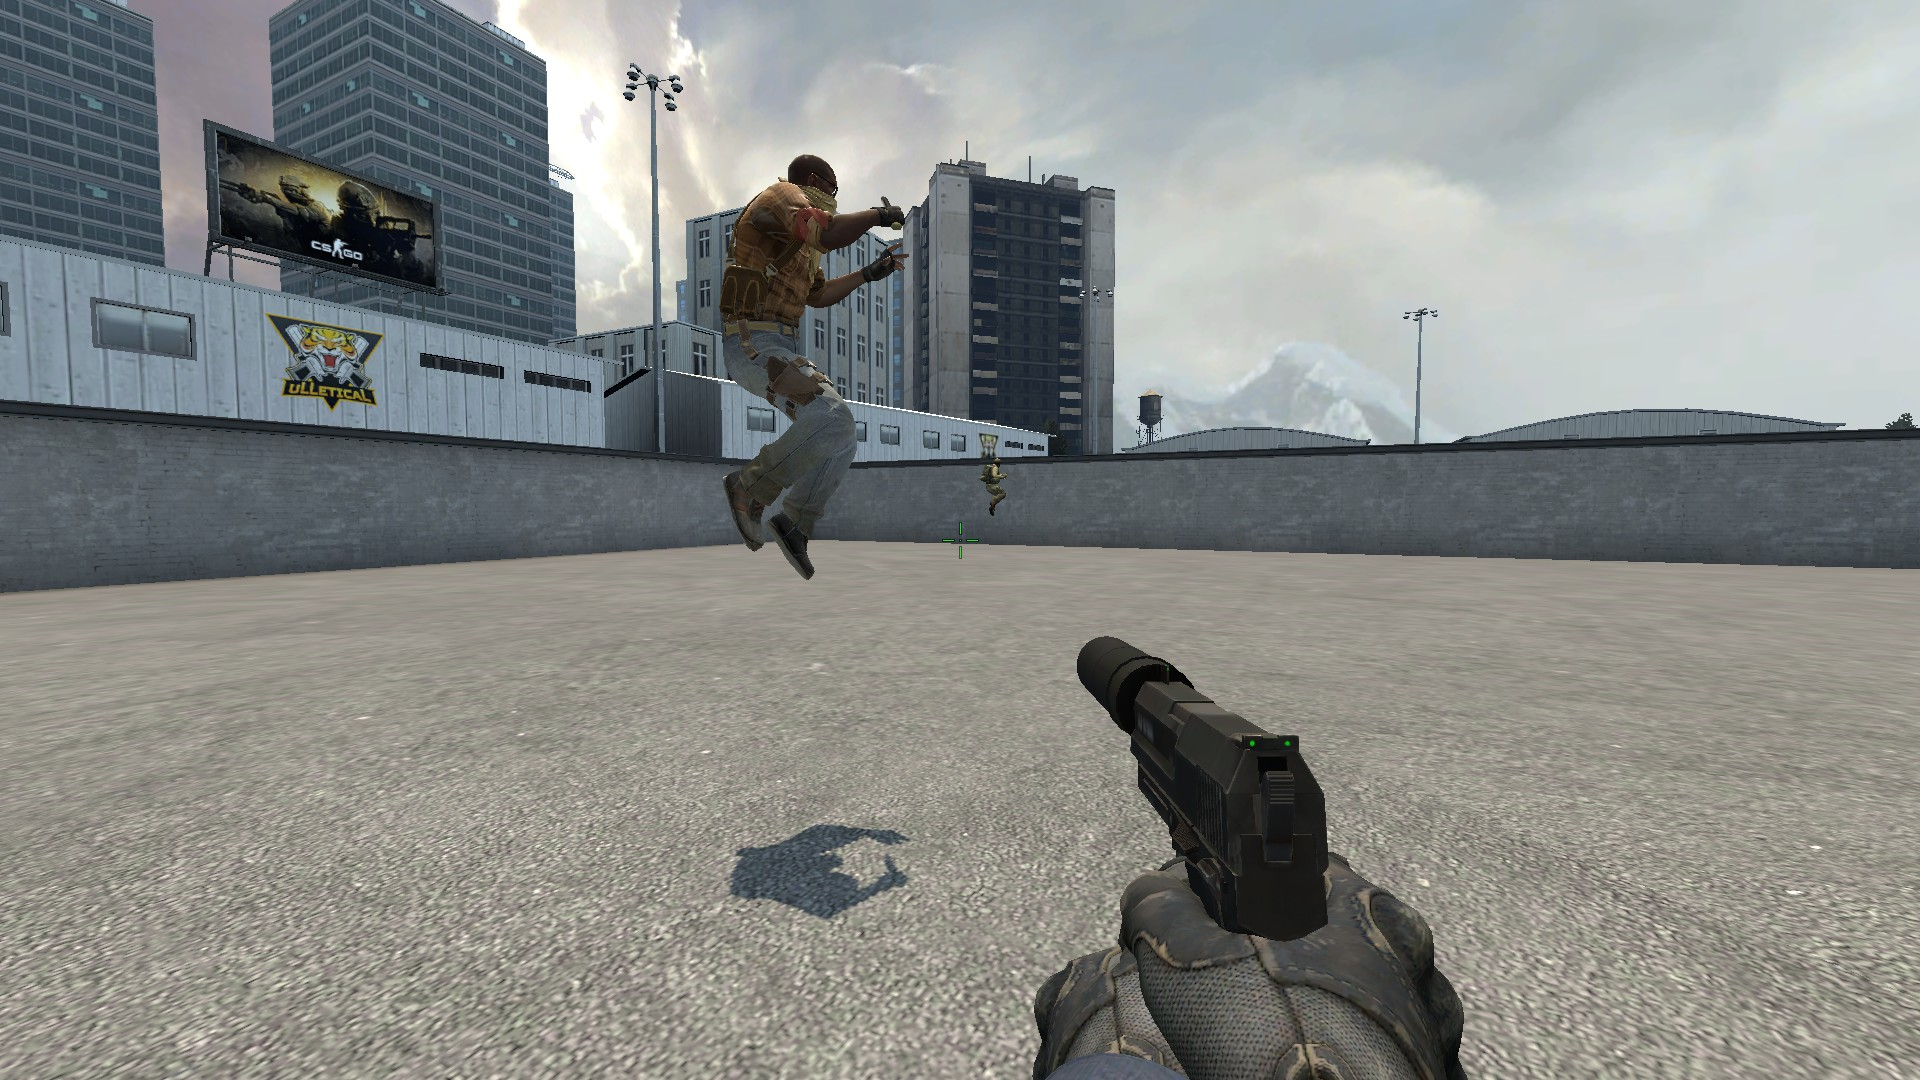tr: (714, 150, 911, 581)
tr head: (779, 150, 845, 223)
